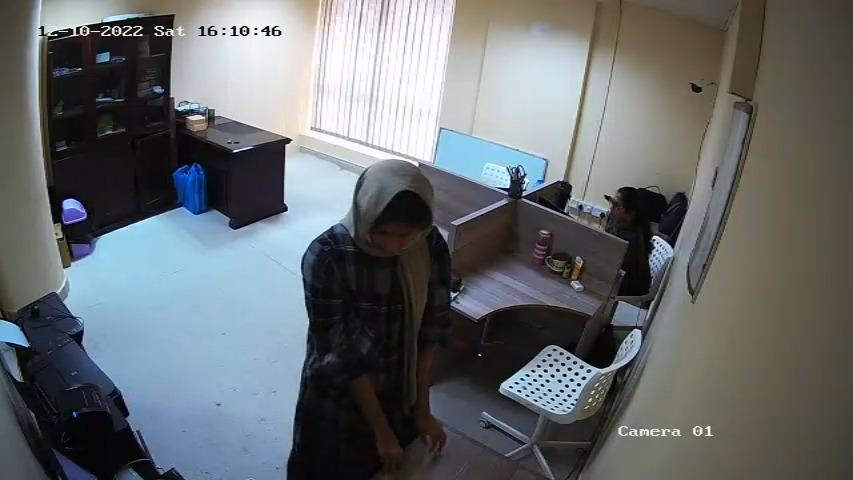no_gloves: (414, 411, 448, 456), (374, 432, 407, 478)
